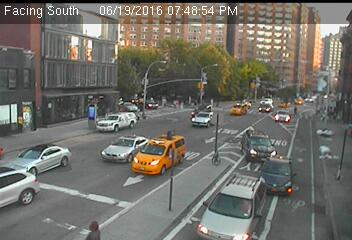neg: (37, 140, 62, 173), (95, 147, 118, 177), (160, 182, 182, 212), (46, 61, 68, 90), (139, 144, 158, 170), (111, 74, 130, 100), (185, 47, 204, 72), (142, 55, 161, 80), (84, 40, 102, 65), (318, 130, 336, 154), (208, 173, 226, 197), (280, 52, 297, 75), (313, 63, 330, 85), (203, 106, 219, 128), (226, 120, 242, 142), (251, 126, 267, 147), (292, 135, 308, 156), (232, 56, 247, 76), (84, 93, 99, 113), (105, 119, 120, 139), (175, 136, 189, 155), (279, 102, 293, 121)
pos: (88, 216, 102, 234)
